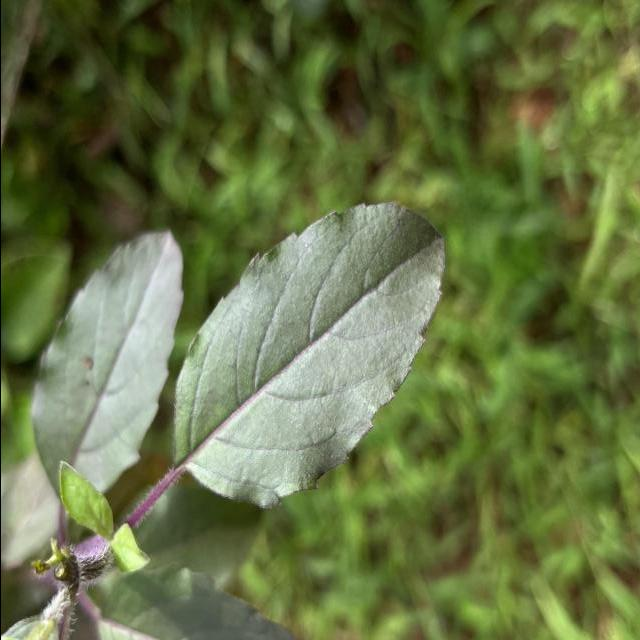Ocimum tenuiflorum: (168, 195, 450, 515)
